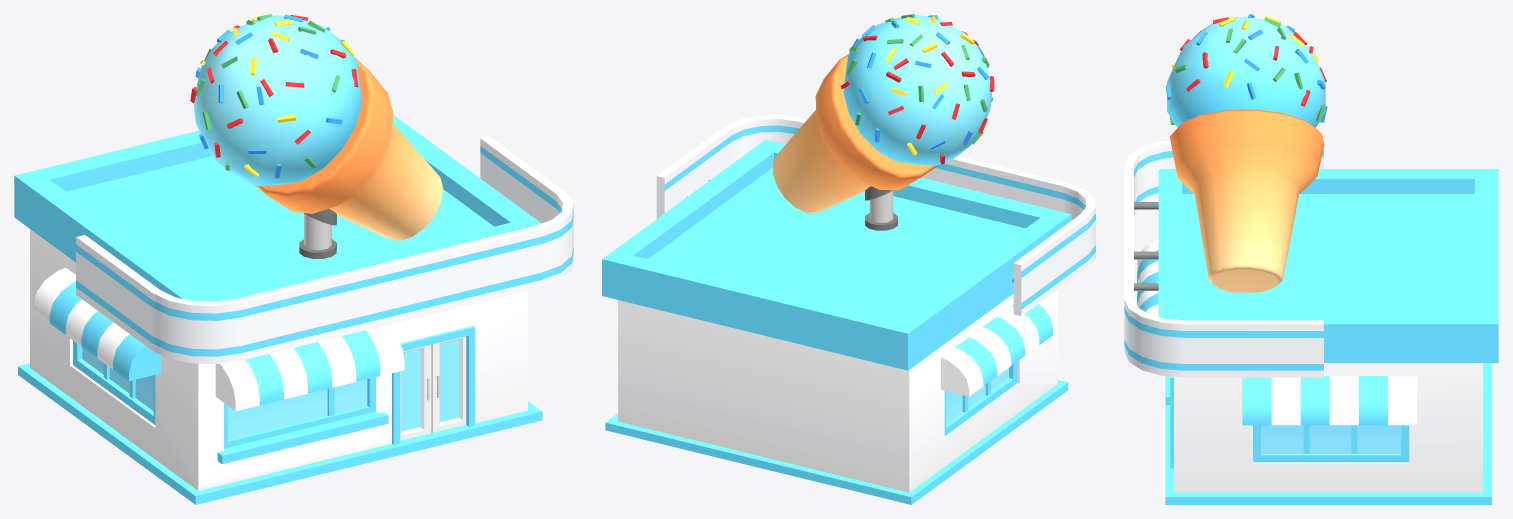
Rendered from city2-building-snack-01.glb.
3 renders of one model, left to right at view 1: azimuth 30°, elevation 25°; view 2: azimuth 150°, elevation 25°; view 3: azimuth 270°, elevation 25°, orthographic. The views are drawn at different scales.
Visible parts, largest first — view 1: Building_Snack_01; view 2: Building_Snack_01; view 3: Building_Snack_01.
Part boxes in pixels (x1,y1,x2,y2): Building_Snack_01: [14, 14, 573, 504]; Building_Snack_01: [602, 14, 1095, 504]; Building_Snack_01: [1124, 14, 1498, 504].
Bounding box in the file's own units: 10.13 × 9.84 × 8.65.
Materials: 1 (1 with a texture image).
